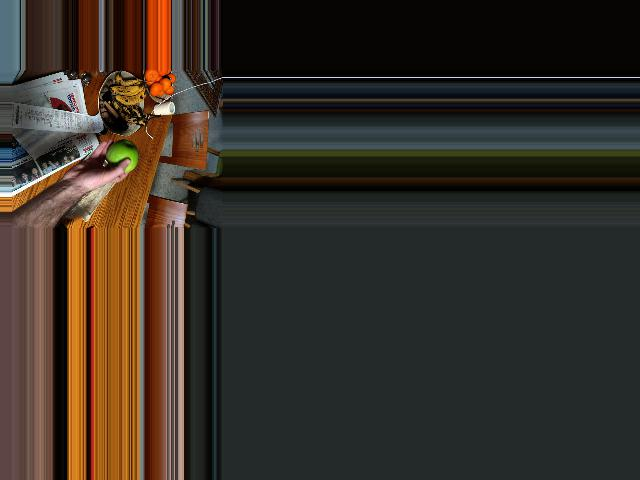apple: (100, 139, 140, 175)
